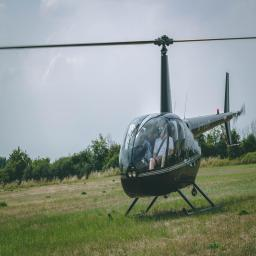helicopter: (91, 26, 249, 236)
